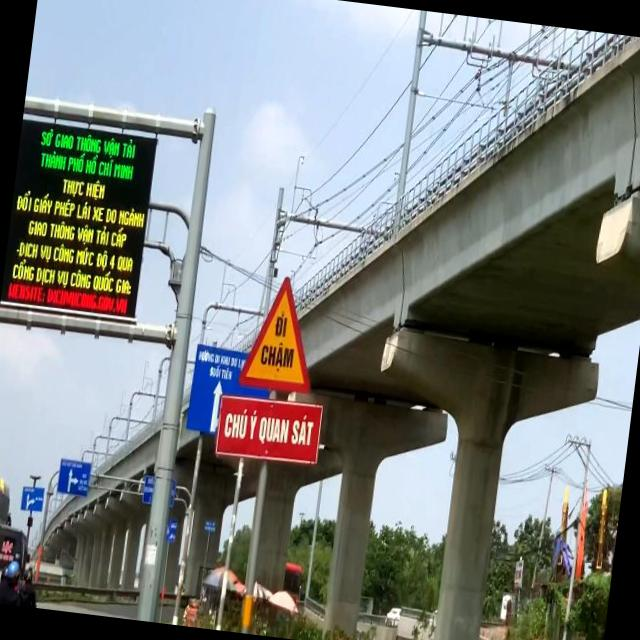W-245a: (237, 269, 323, 392)
